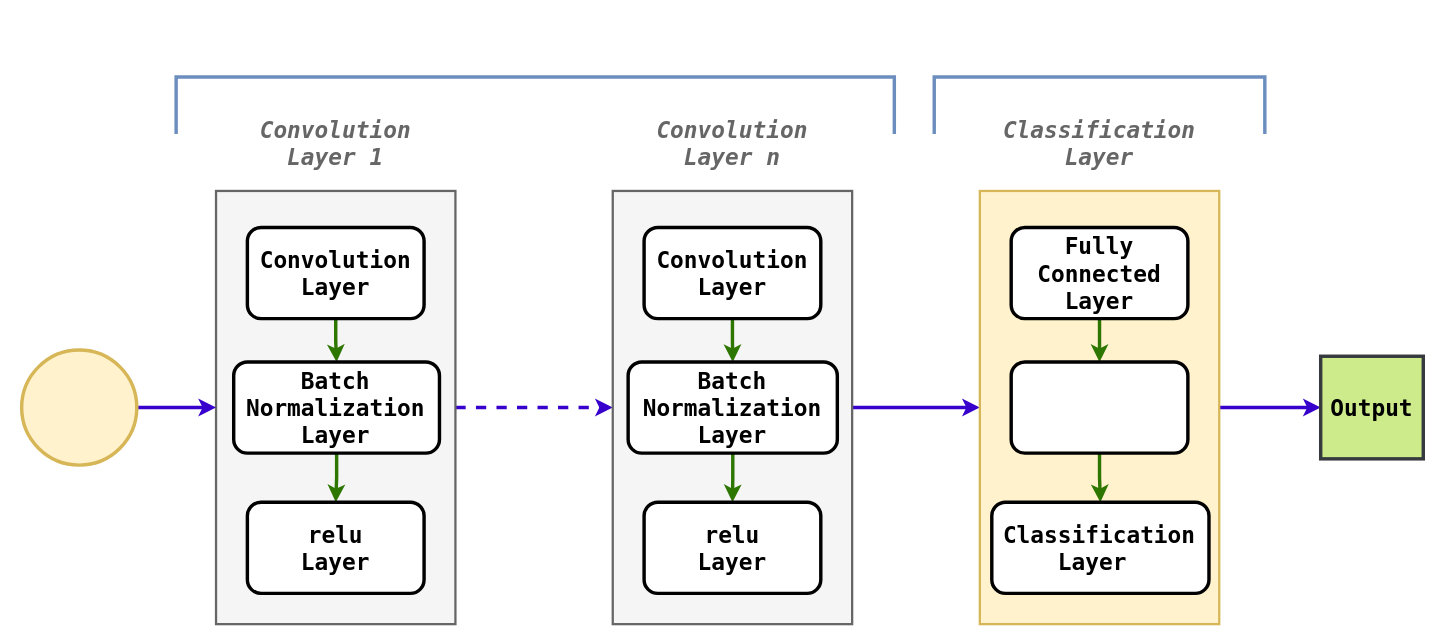
Some shapes in this 1444 by 644 pixel diagram are drawn without their labels. Here are the shapes that lost their labels. From the top down, the centre of each, then its label:
the point at 534,105: FEATURE EXTRACTION
the point at 1099,105: CLASSIFICATION
the point at 78,407: Input Layer
the point at 1099,407: Soft Max Layer
